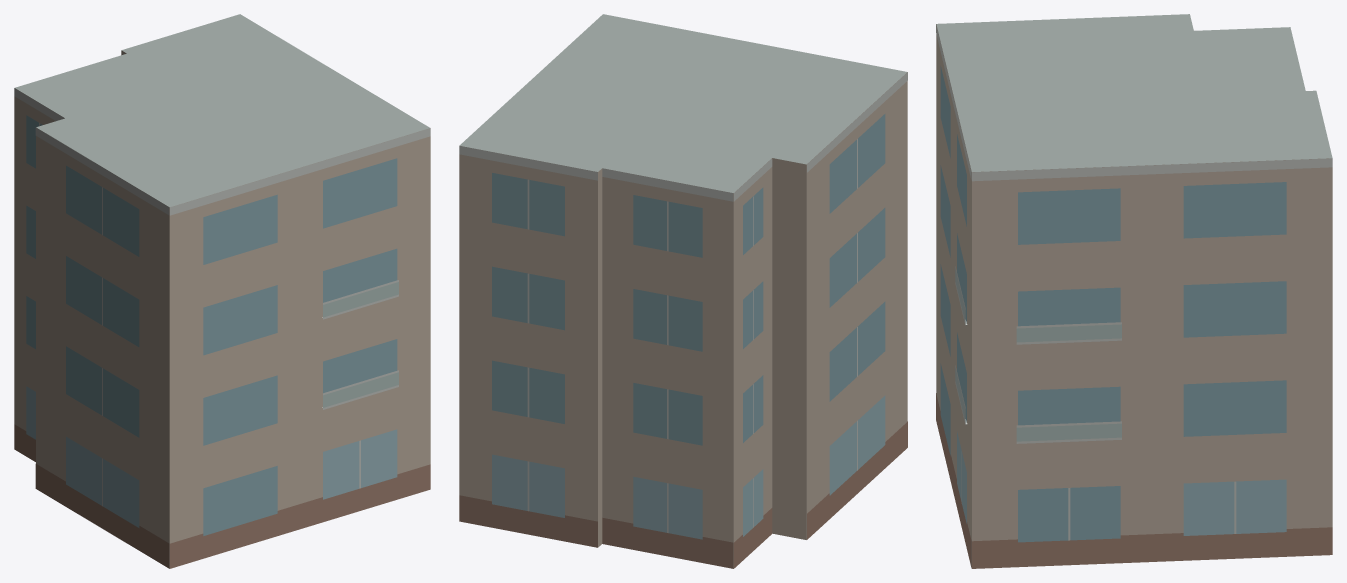
The model's file is survey-upis-32676387.glb.
3 views of the same model, side by side, from view 1: azimuth 30°, elevation 25°; view 2: azimuth 150°, elevation 25°; view 3: azimuth 270°, elevation 25° (orthographic). The views are drawn at different scales.
Parts seen in each view (by area): view 1: survey-upis-32676387.tmp; view 2: survey-upis-32676387.tmp; view 3: survey-upis-32676387.tmp.
Boxes of the visible parts, left/top/right/bottom form: survey-upis-32676387.tmp: left=14, top=14, right=430, bottom=568; survey-upis-32676387.tmp: left=459, top=14, right=907, bottom=568; survey-upis-32676387.tmp: left=936, top=14, right=1332, bottom=568.
Bounding box in the file's own units: 9.07 × 10.6 × 9.61.
